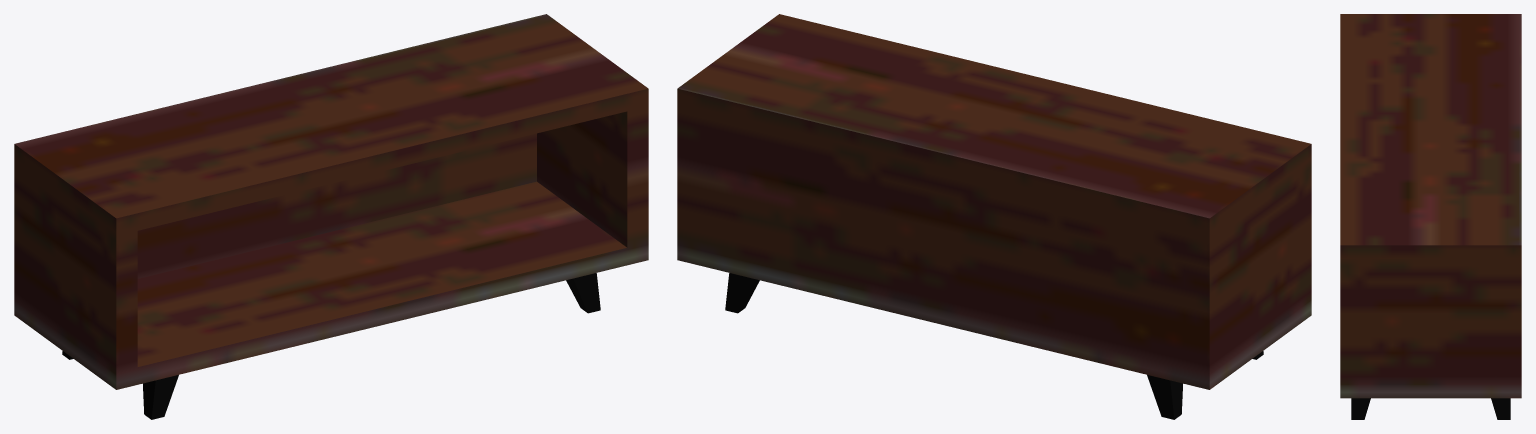
File: DresserElementNoDrawer.fbx
3 renders of one model, left to right at view 1: azimuth 30°, elevation 25°; view 2: azimuth 150°, elevation 25°; view 3: azimuth 270°, elevation 25°, orthographic. The views are drawn at different scales.
Visible parts, largest first — view 1: DresserElementNoDrawer; view 2: DresserElementNoDrawer; view 3: DresserElementNoDrawer.
Part boxes in pixels (box(x1,y1,x2,y2)): DresserElementNoDrawer: box(14, 14, 648, 419); DresserElementNoDrawer: box(677, 14, 1311, 419); DresserElementNoDrawer: box(1340, 14, 1521, 419).
Size of the model in its own units: 113 by 43.87 by 37.48.
